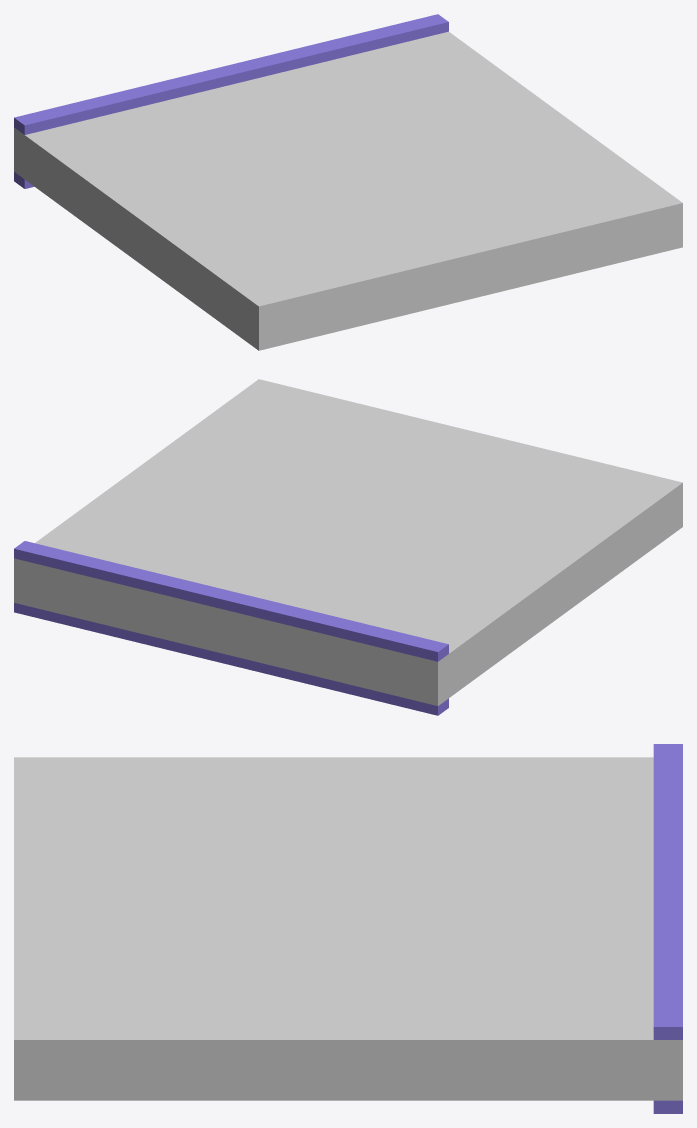
File: propsMaison_mur.fbx
The picture shows the model from 3 angles, top to bottom: view 1: azimuth 30°, elevation 25°; view 2: azimuth 150°, elevation 25°; view 3: azimuth 270°, elevation 25°; orthographic projection. The views are drawn at different scales.
Visible parts, largest first — view 1: Cube.004; view 2: Cube.004; view 3: Cube.004.
Part boxes in pixels (bbox=[...]): Cube.004: bbox=[14, 14, 682, 350]; Cube.004: bbox=[14, 379, 682, 715]; Cube.004: bbox=[14, 744, 682, 1113].
Size of the model in its own units: 500 by 71.77 by 500.
